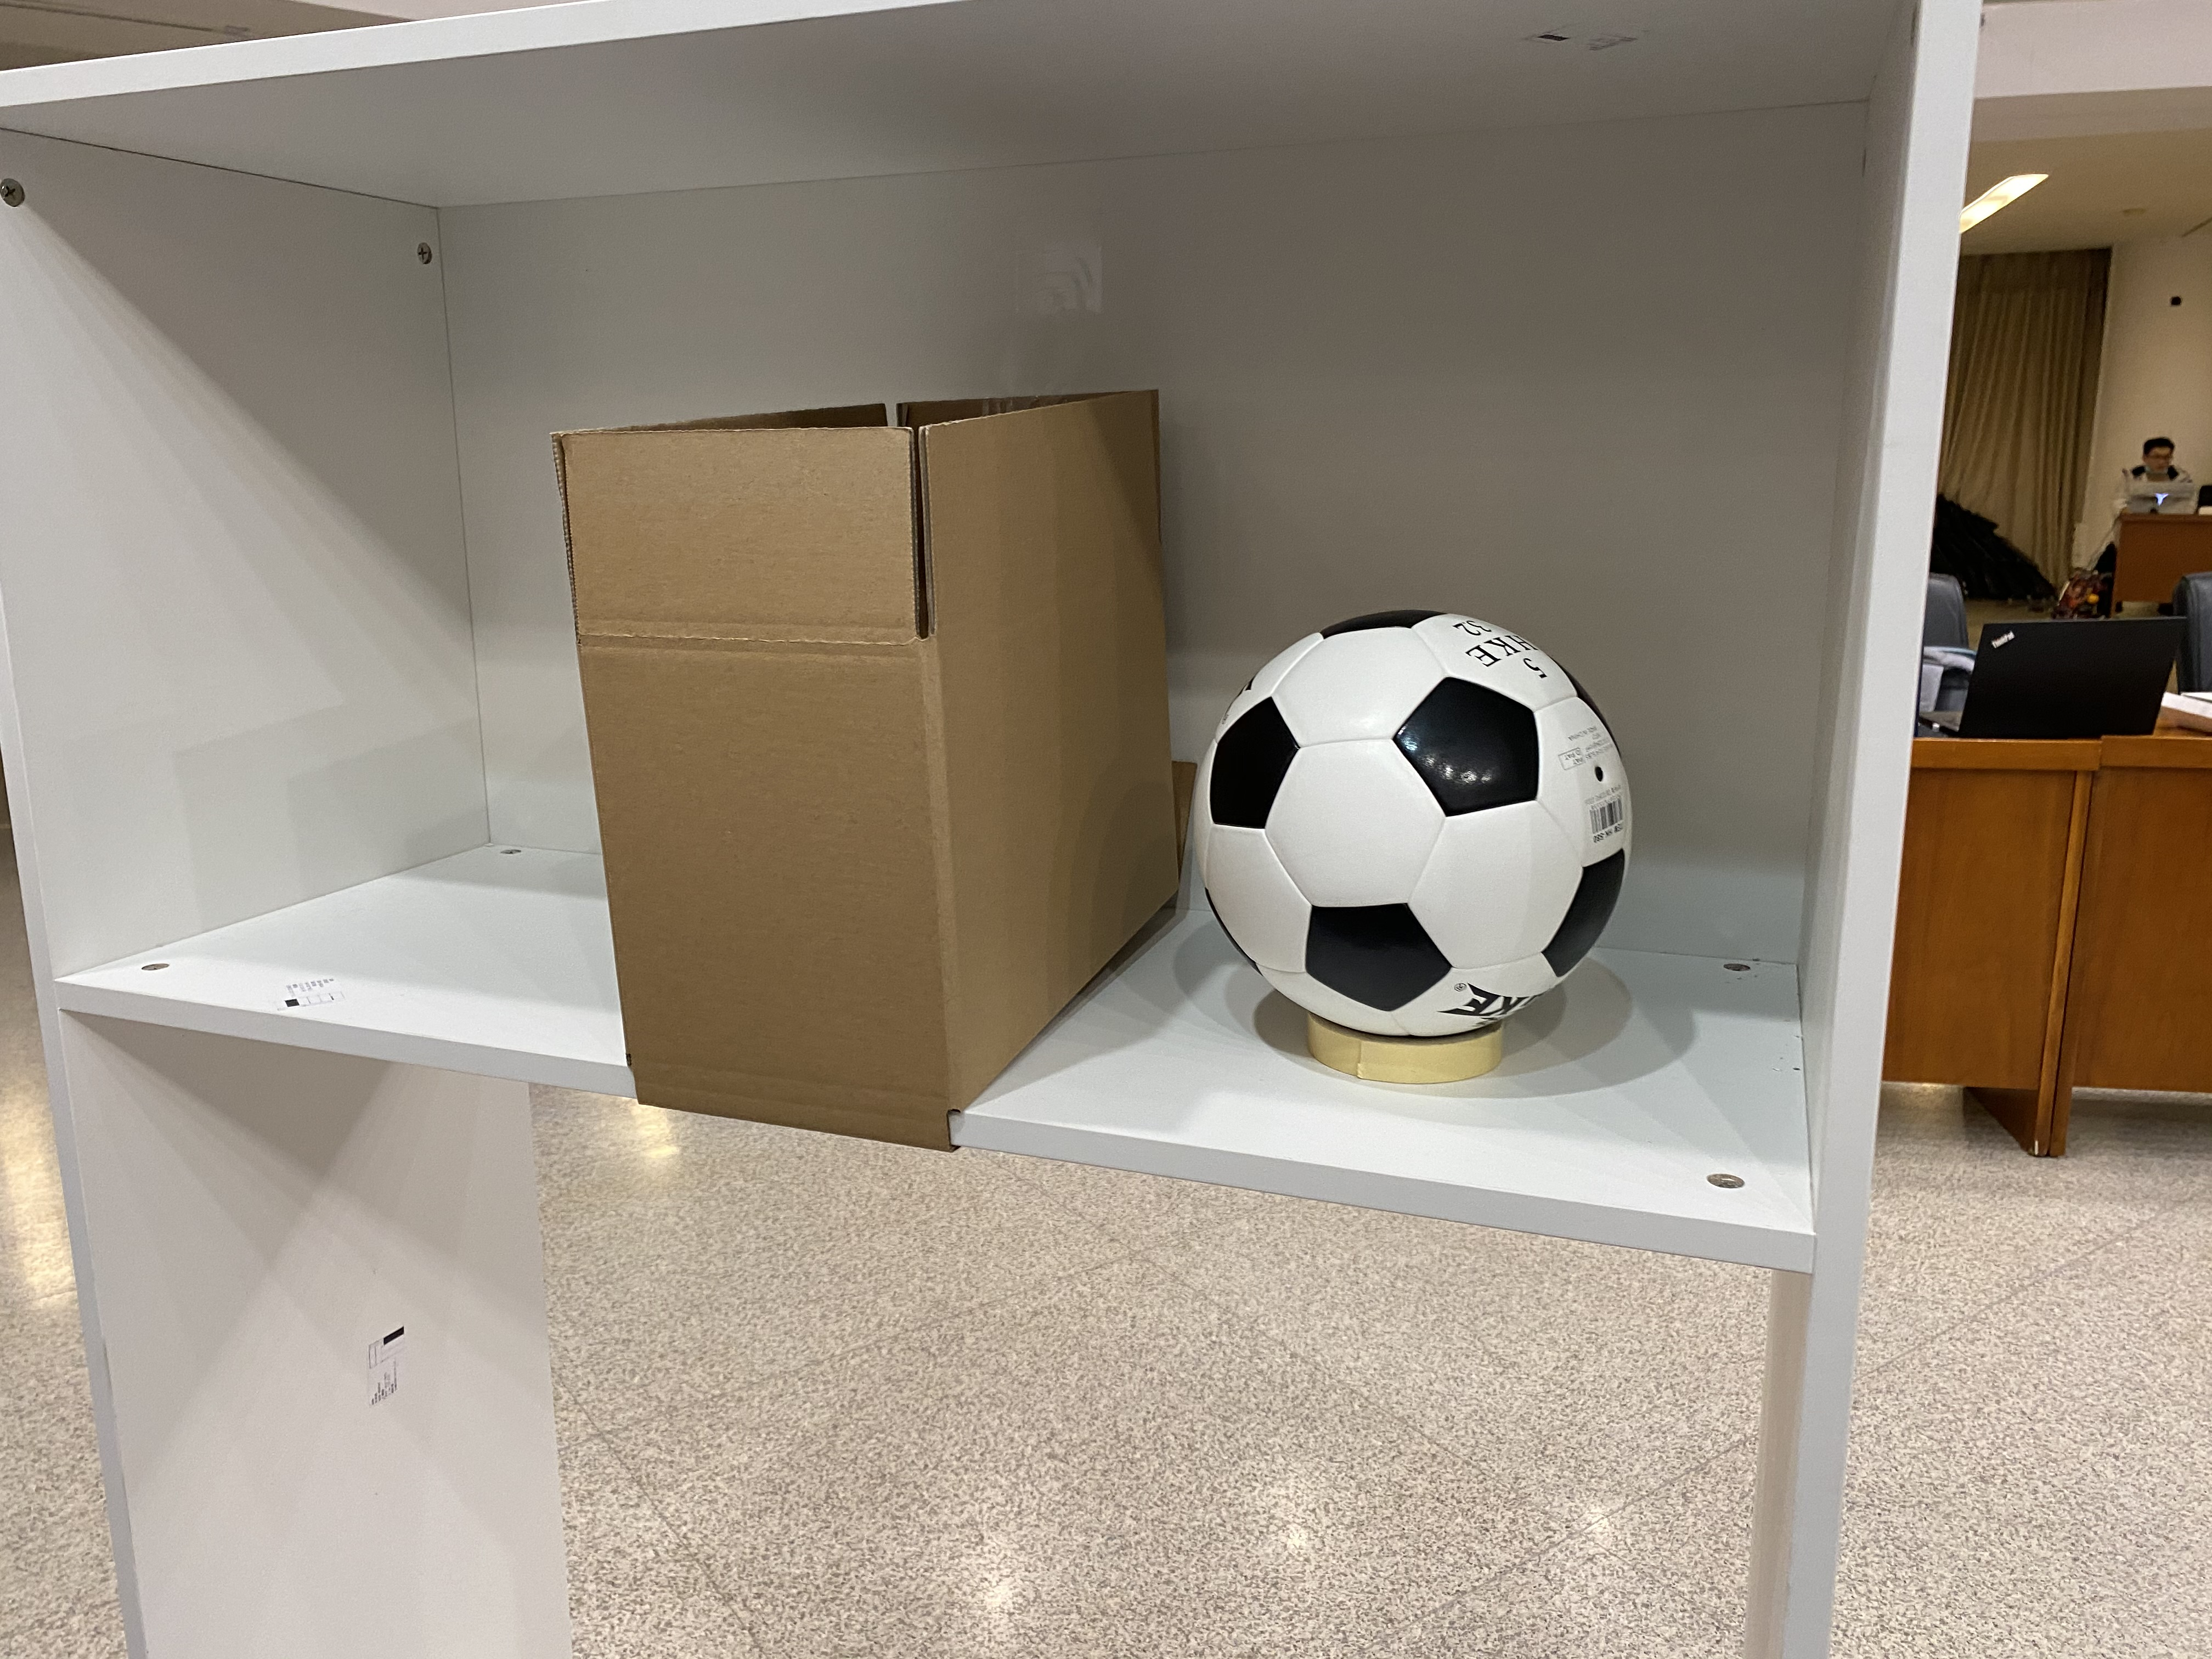football: (1204, 589, 1634, 1033)
